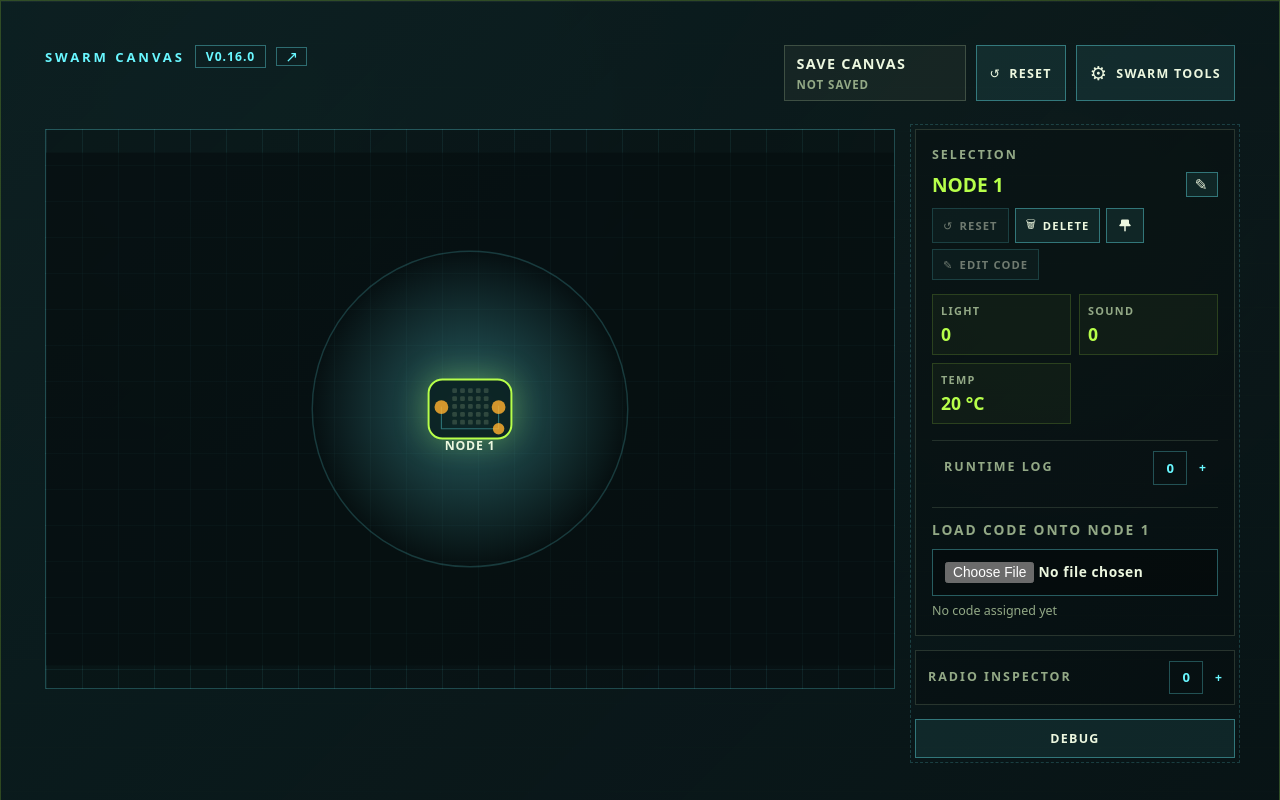
Scenario: SwarmCanvasPanel › keeps telemetry in the debug modal by default
Check: the dialog "Debug tools" is not shown
Click the button "Debug" at [1075, 739], box x1=915 y1=719 x2=1235 y2=758
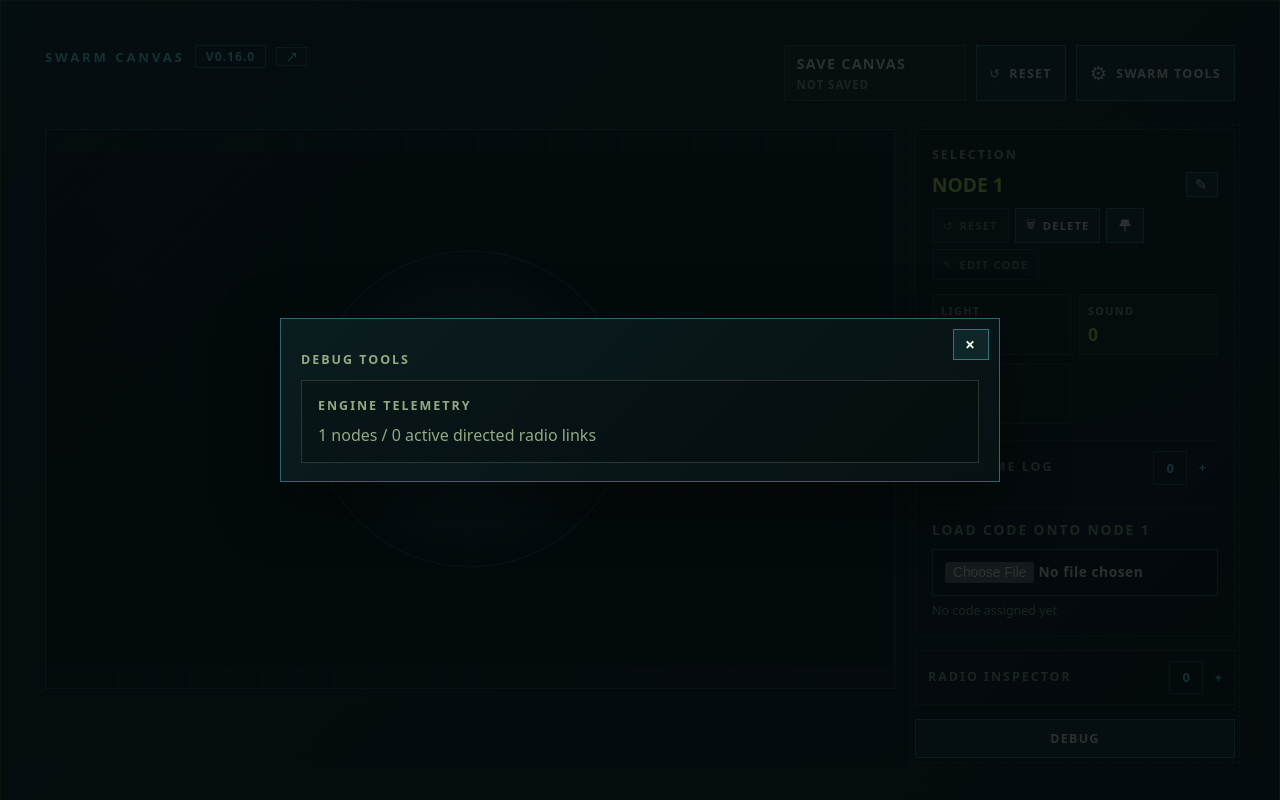
Check: the dialog "Debug tools" is shown
Check: the text "1 nodes / 0 active directed radio links" is shown, box x1=318 y1=424 x2=596 y2=446
Click the button named "Close debug tools" at [971, 344], box x1=953 y1=328 x2=989 y2=360
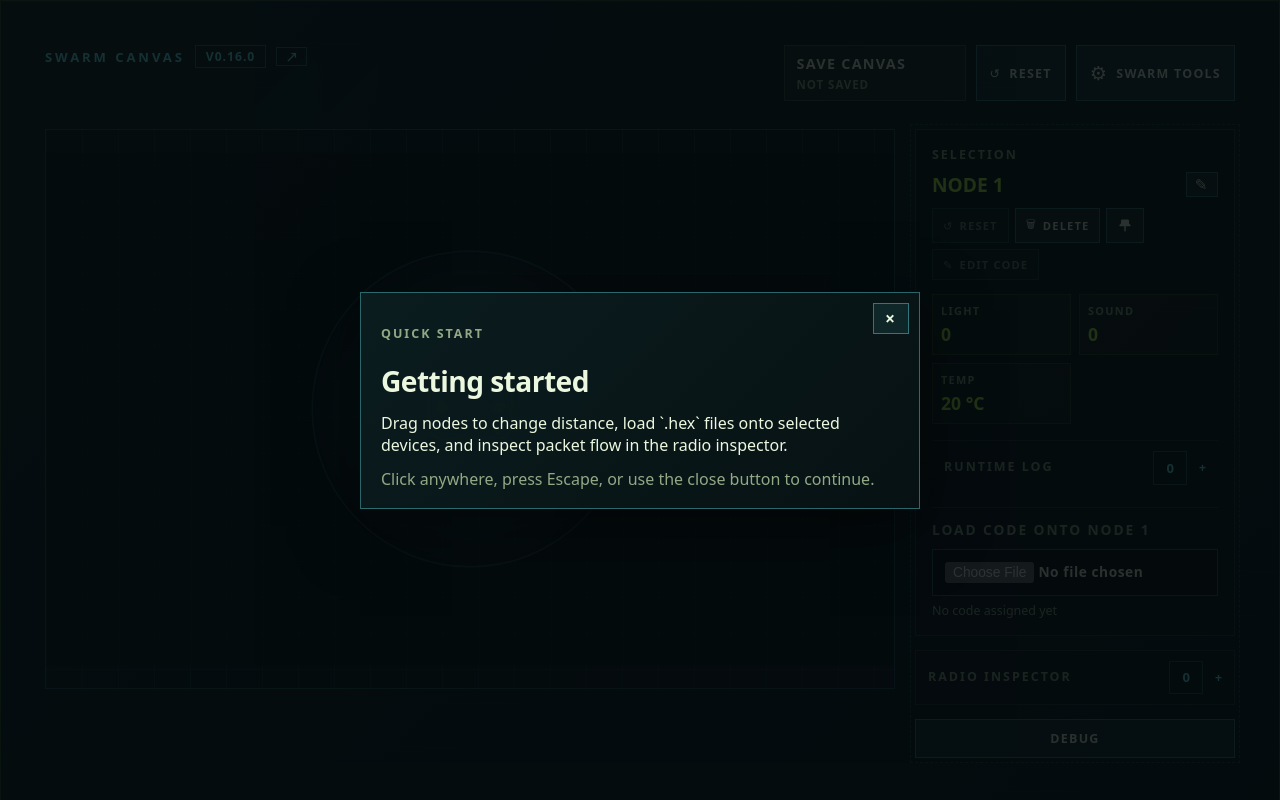
Check: the text "Debug tools" is gone
